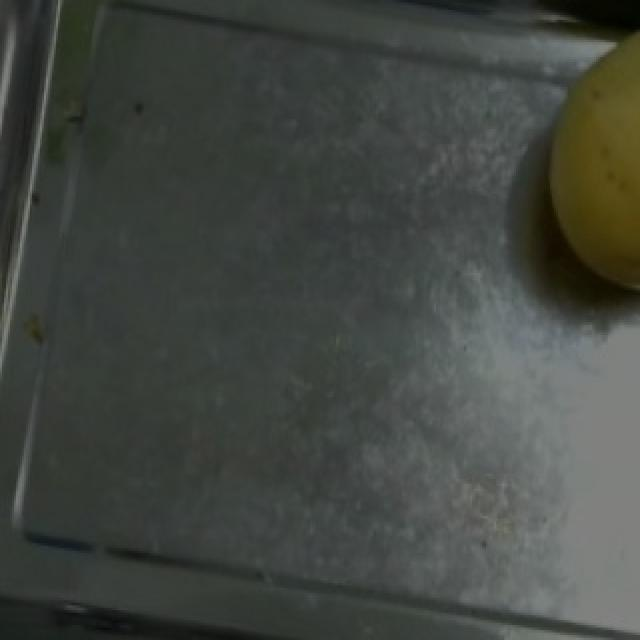fruit: (520, 8, 640, 318)
